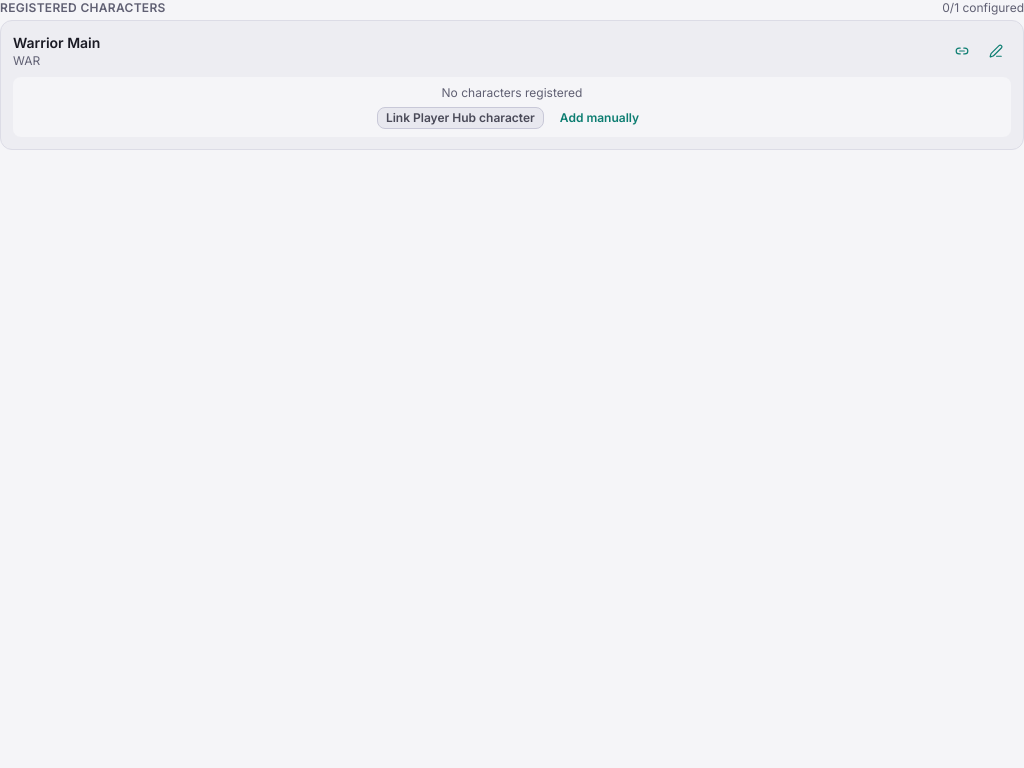
RosterCharacterPanel › opens the link modal when "Link Player Hub character" CTA is clicked
Click the button "Link Player Hub character" at [460, 118], box [377,107,544,129]
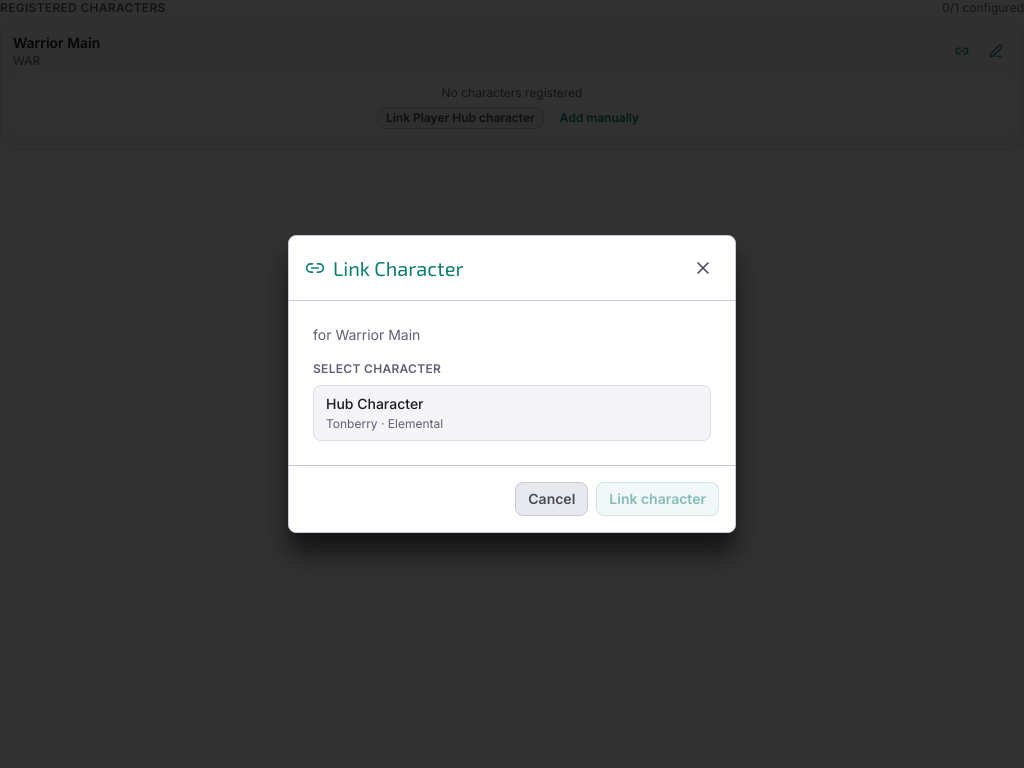
Now the text "Link Character" is shown, box [305,254,464,282]
Now the text "Hub Character" is shown, box [326,394,424,414]
